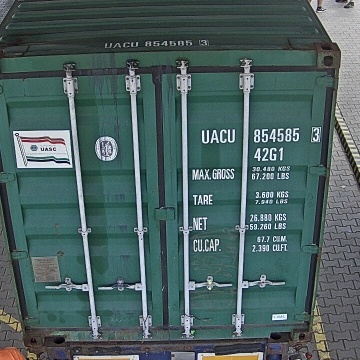serial_id: (202, 127, 321, 143)
